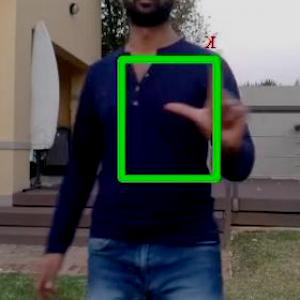land_hand: (159, 39, 257, 166)
